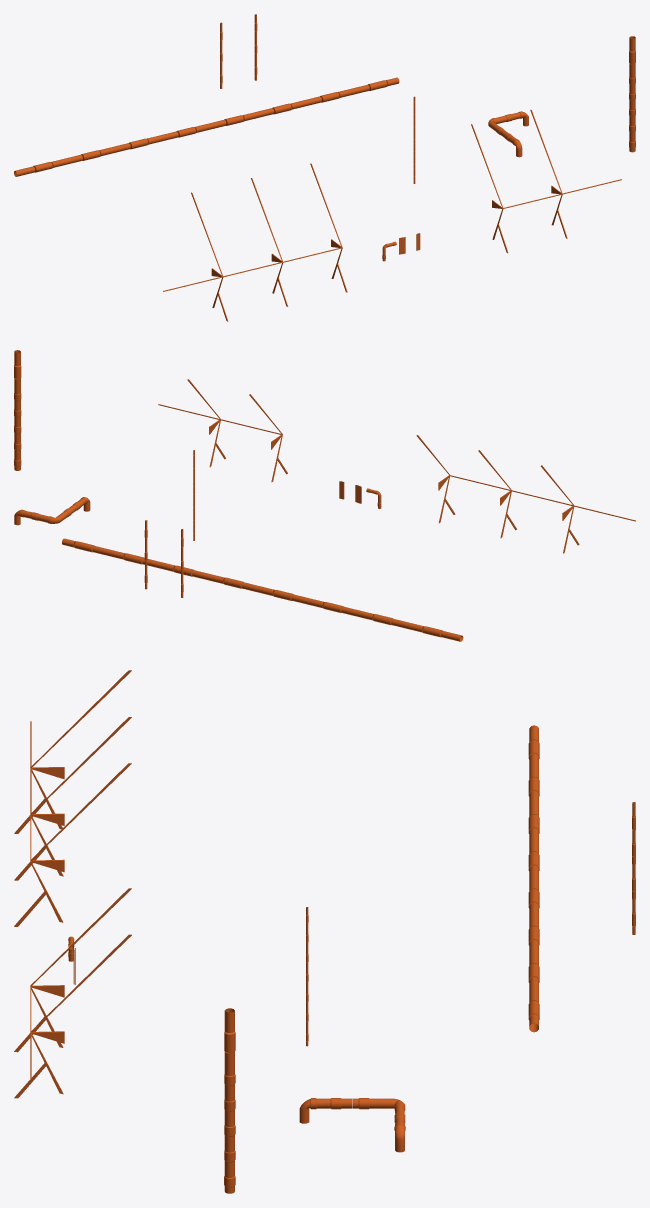
File: structure_metal_parts.fbx
3 renders of one model, top to bottom at view 1: azimuth 30°, elevation 25°; view 2: azimuth 150°, elevation 25°; view 3: azimuth 270°, elevation 25°, orthographic. The views are drawn at different scales.
Parts seen in each view (by area): view 1: structure_metal_parts; view 2: structure_metal_parts; view 3: structure_metal_parts.
Boxes of the visible parts, bbox=[...] form: structure_metal_parts: bbox=[14, 14, 635, 321]; structure_metal_parts: bbox=[14, 350, 635, 641]; structure_metal_parts: bbox=[14, 670, 635, 1193].
Bounding box in the file's own units: 153 × 32.7 × 96.53.
